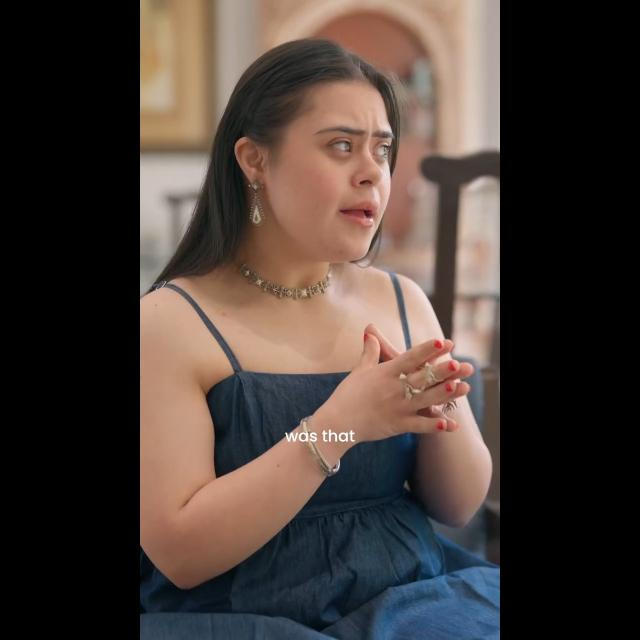ear ring: (242, 178, 274, 234)
